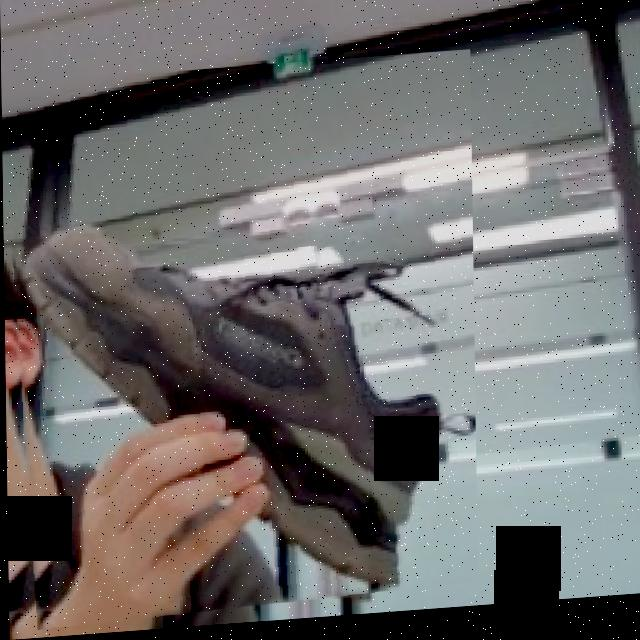shoe: (1, 57, 476, 632)
